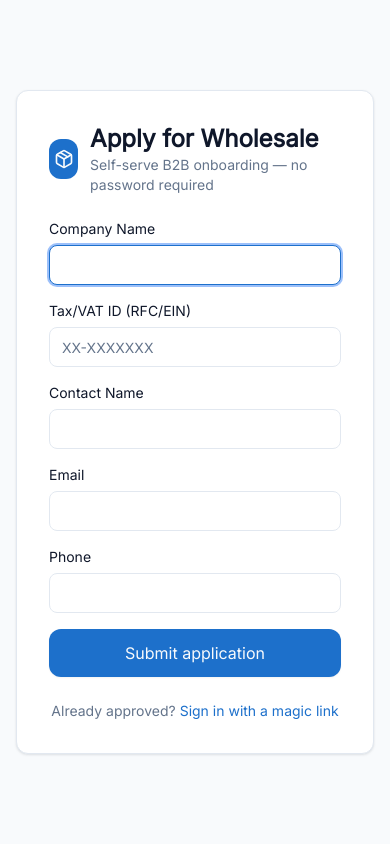
Test: ShowroomApplyPage › submits the wholesale application and shows the review confirmation
This screenshot has width=390, height=844.
Type "Northwind" into the field labelled "Company Name" at (195,265), box [49, 245, 341, 285]
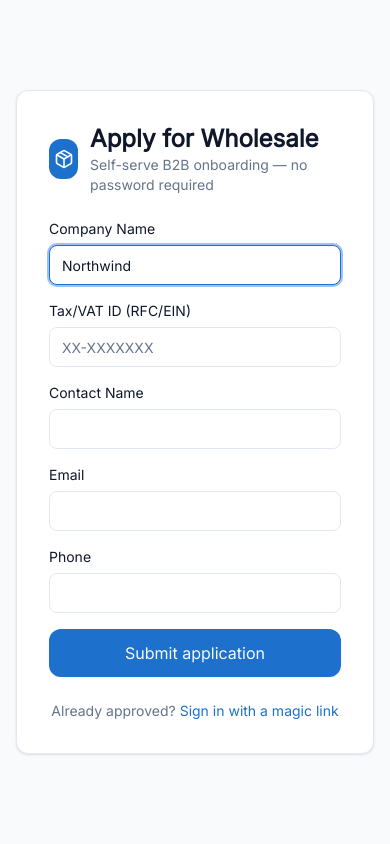
Type "12-3456789" into the field labelled "Tax/VAT ID (RFC/EIN)" at (195,347), box [49, 327, 341, 367]
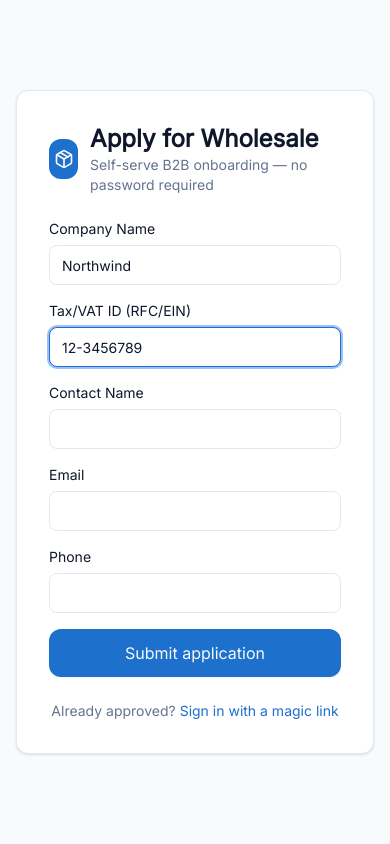
Type "Ada" into the field labelled "Contact Name" at (195,429), box [49, 409, 341, 449]
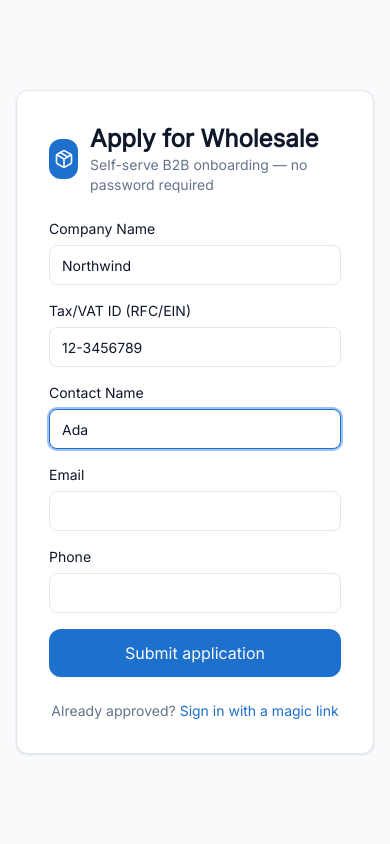
Type "ada@northwind.test" into the field labelled "Email" at (195,511), box [49, 491, 341, 531]
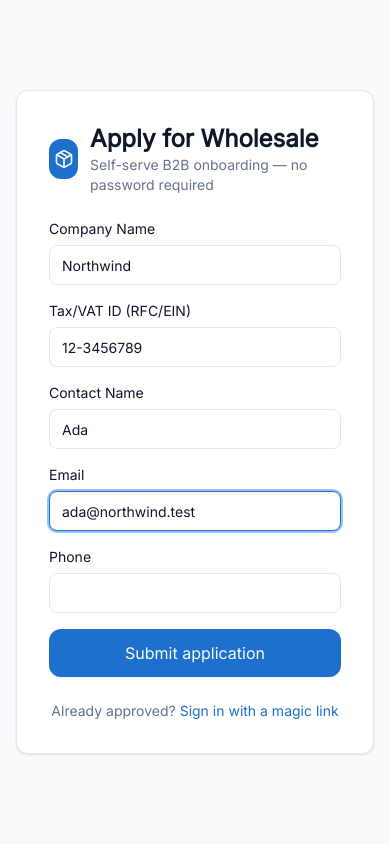
Type "555-0100" into the field labelled "Phone" at (195,593), box [49, 573, 341, 613]
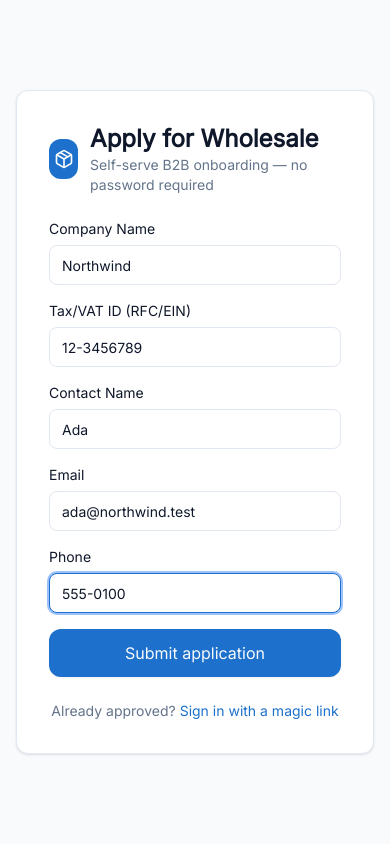
Click the button "Submit application" at (195,653), box [49, 629, 341, 677]
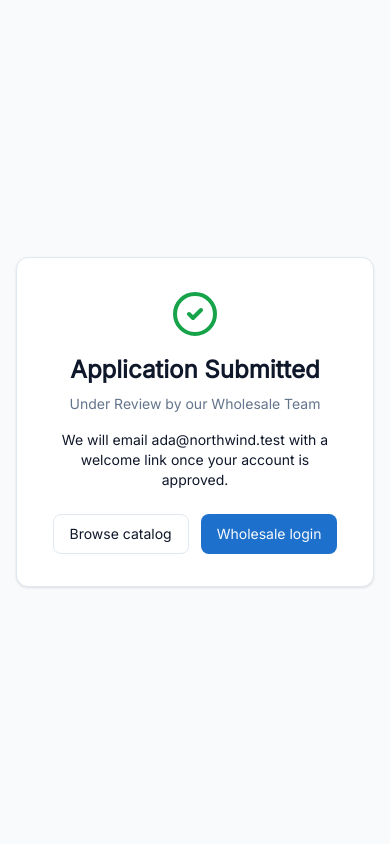
Expected: the element with test id "showroom-apply-success" is shown
Expected: the heading "Application Submitted" is shown, [49, 354, 341, 386]
Expected: the text "Under Review by our Wholesale Team" is shown, [49, 394, 341, 414]
